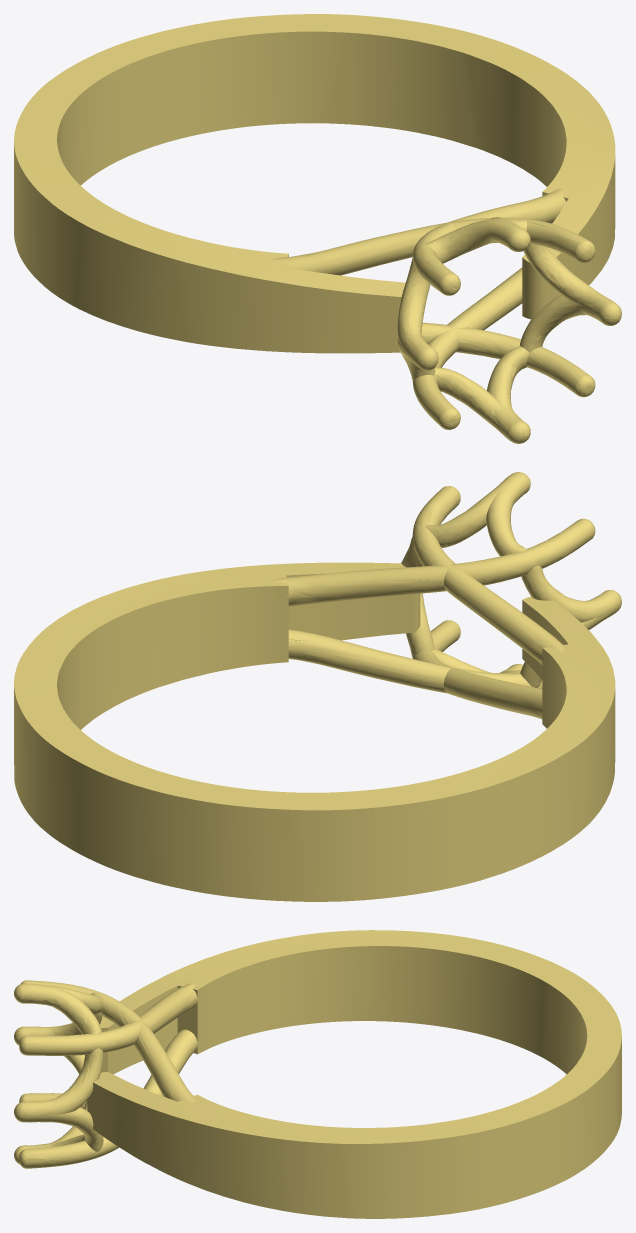
3 views of the same model, one above another, from view 1: azimuth 30°, elevation 25°; view 2: azimuth 150°, elevation 25°; view 3: azimuth 270°, elevation 25° (orthographic). The views are drawn at different scales.
Visible parts, largest first — view 1: lr-0001; view 2: lr-0001; view 3: lr-0001.
Part boxes in pixels (x1,y1,x2,y2): lr-0001: (14, 14, 621, 443); lr-0001: (14, 472, 621, 901); lr-0001: (14, 930, 621, 1218).
Bounding box in the file's own units: 0.8321 × 0.3265 × 1.
